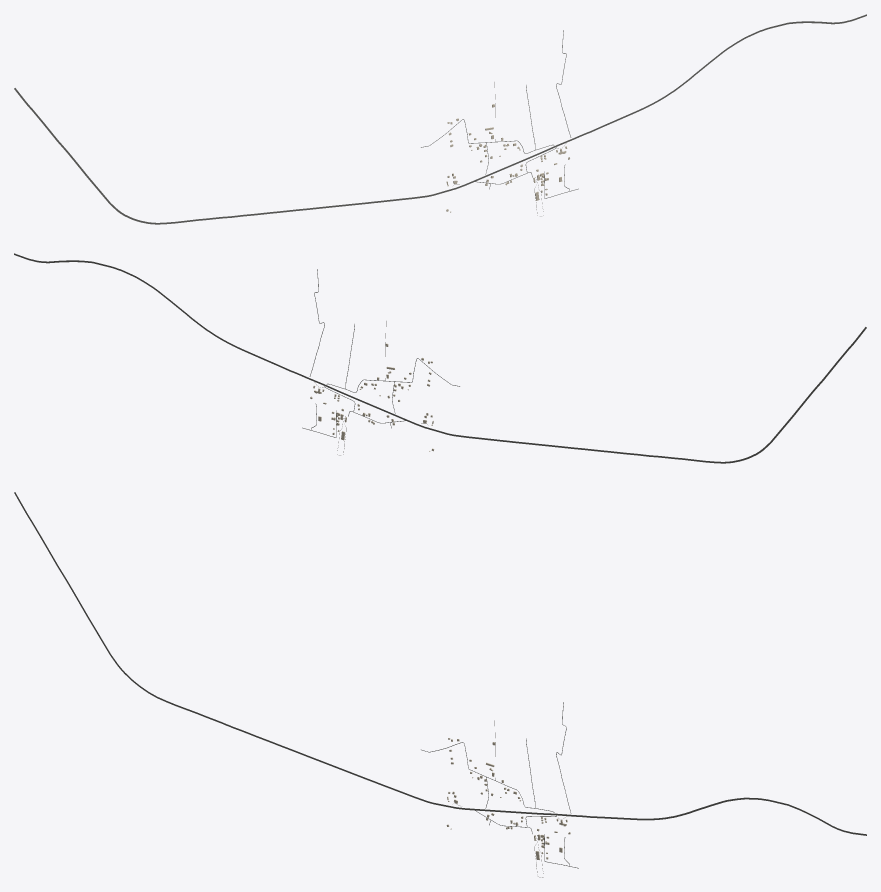
Rendered from irbid_3578_3255.glb.
The picture shows the model from 3 angles, top to bottom: view 1: azimuth 30°, elevation 25°; view 2: azimuth 150°, elevation 25°; view 3: azimuth 330°, elevation 25°; orthographic projection.
Visible parts, largest first — view 1: Road 10; view 2: Road 10; view 3: Road 10.
Boxes of the visible parts, x1,y1,x2,y2 form: Road 10: (14,14,866,224); Road 10: (14,253,866,463); Road 10: (14,492,866,835).
Size of the model in its own units: 6473 by 1866 by 8.7.
